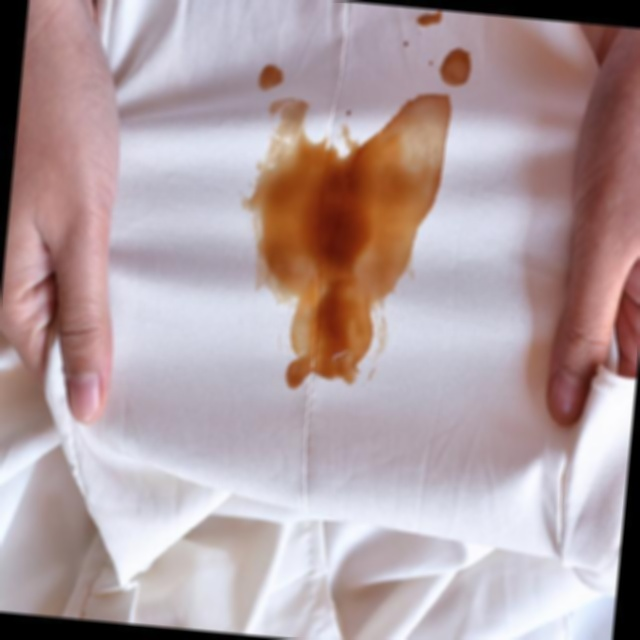coffee: (256, 102, 416, 402), (438, 46, 477, 87), (255, 61, 285, 89)
